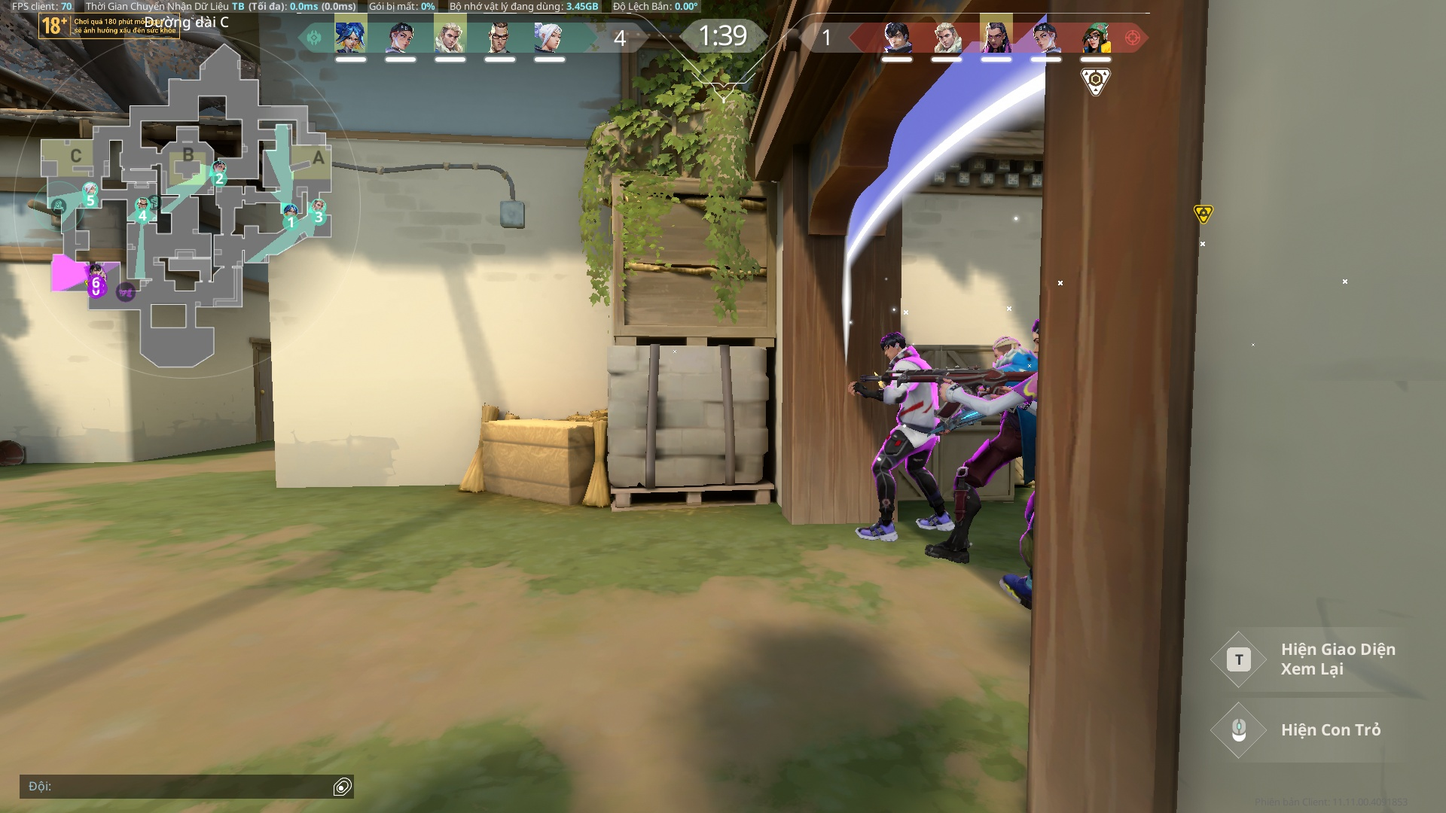body: (887, 357, 940, 425), (996, 357, 1035, 426)
head: (880, 330, 911, 363), (993, 333, 1018, 366), (1028, 315, 1042, 352)
